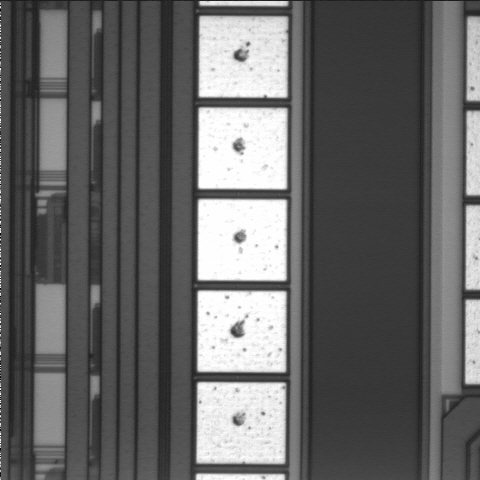pad: (199, 16, 288, 98), (198, 199, 287, 281), (197, 382, 286, 464), (198, 108, 287, 189), (197, 291, 286, 372)
